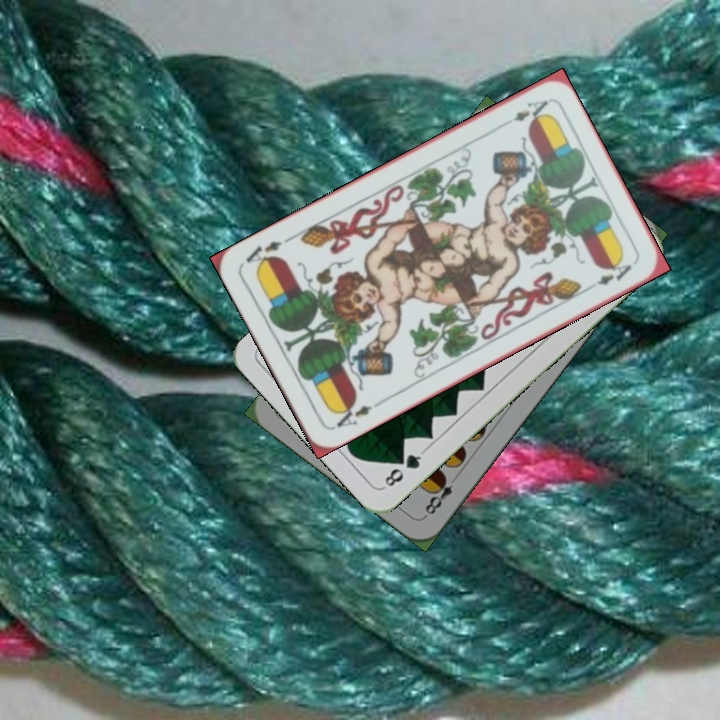E8: (420, 471, 456, 520)
EA: (496, 95, 552, 130), (330, 397, 383, 431)
G8: (379, 446, 427, 491)
